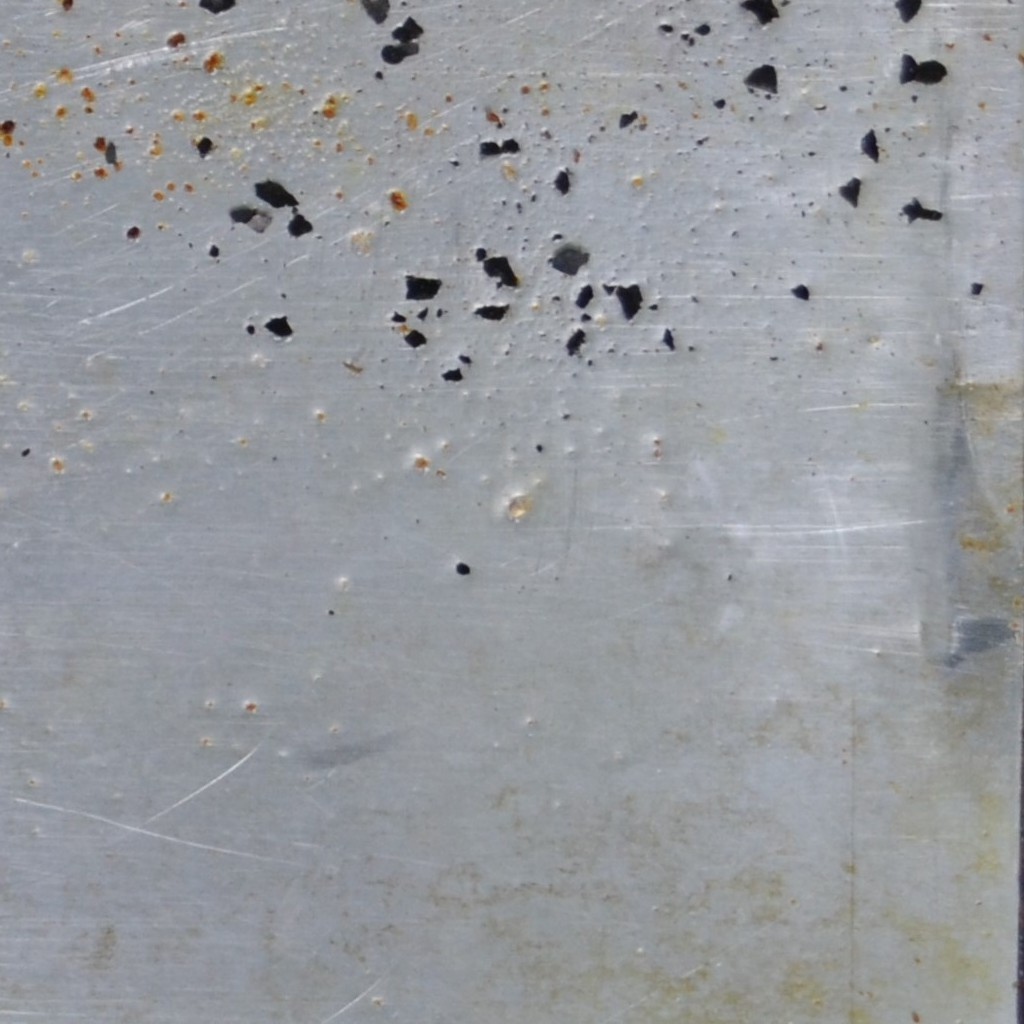varroa: (123, 224, 143, 241), (1, 119, 16, 134), (61, 0, 75, 12)
